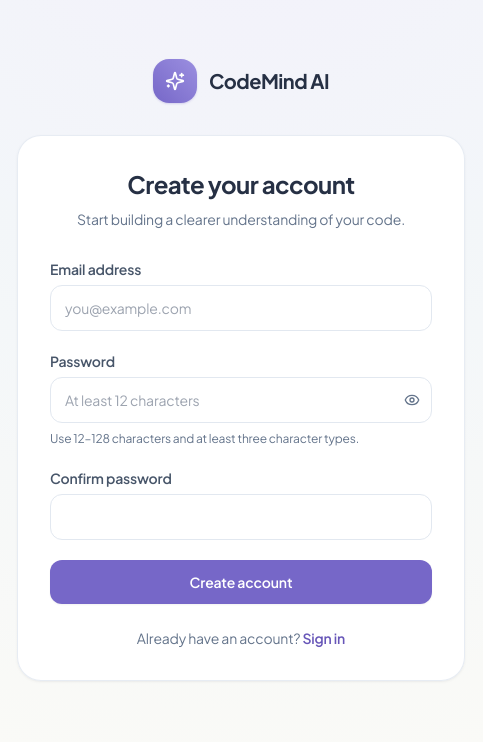
authentication forms › validates registration email, password strength, and confirmation
Type "developer@example.test" into the field labelled "Email address". click: [241, 308]
box: [50,285,432,331]
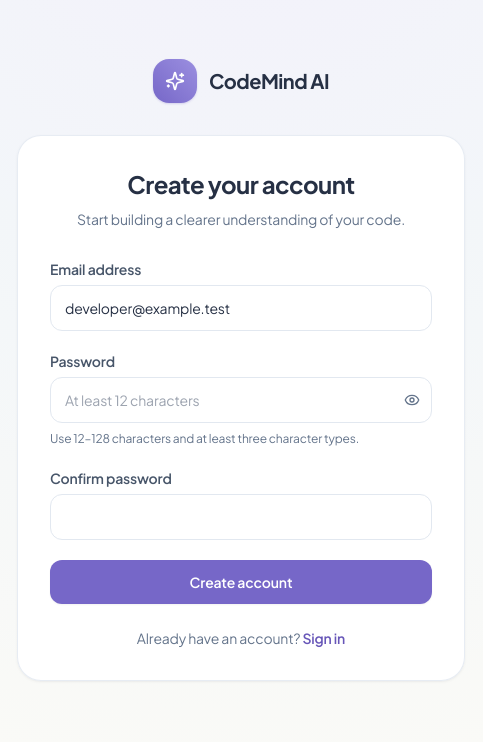
Type "weak" into the password field labelled "Password". click: [241, 400]
box: [50,377,432,423]
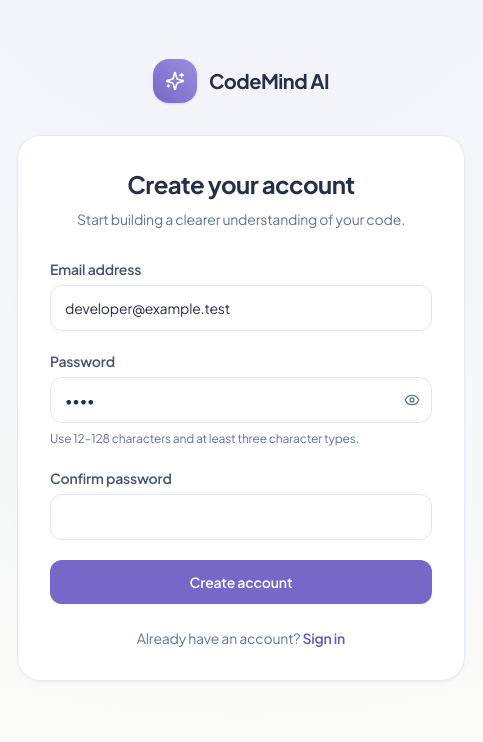
Type "weak" into the password field labelled "Confirm password". click: [241, 517]
box: [50,494,432,540]
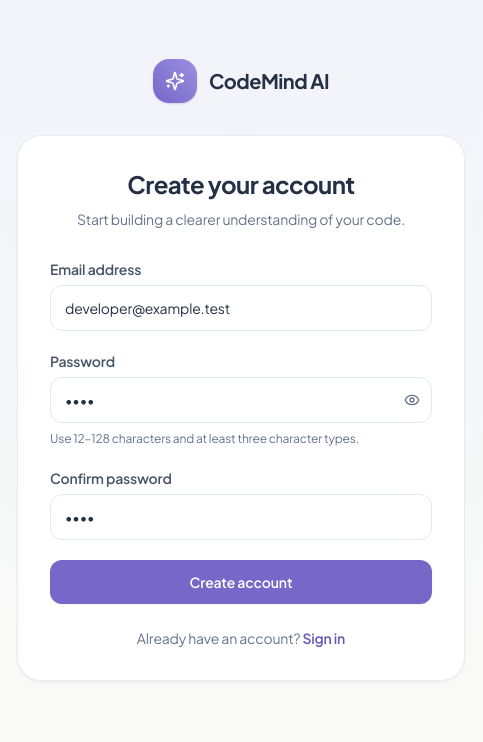
Click the button "Create account". click: [241, 582]
box: [50,560,432,604]
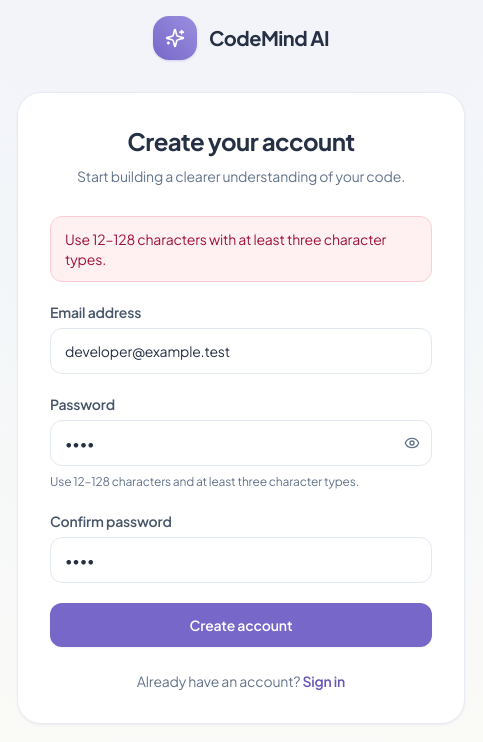
Expected: the message shows "12–128 characters", [65,230,386,268]
